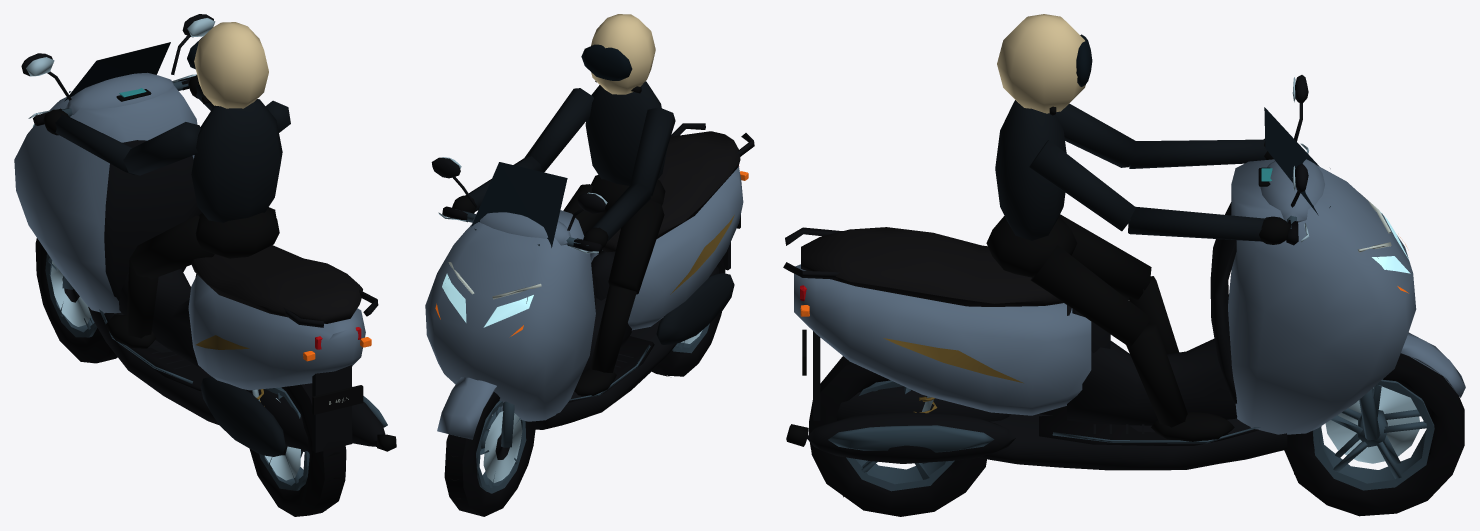
Rendered from Body_LOD1.fbx.
3 views of the same model, side by side, from view 1: azimuth 30°, elevation 25°; view 2: azimuth 150°, elevation 25°; view 3: azimuth 270°, elevation 25° (orthographic). The views are drawn at different scales.
Visible parts, largest first — view 1: Body_Mesh, Helmeted_Traffic_Rider, Wheel_Rear_Mesh, Steering_Pivot_Mesh, Wheel_Front_Mesh; view 2: Body_Mesh, Helmeted_Traffic_Rider, Wheel_Front_Mesh, Steering_Pivot_Mesh, Wheel_Rear_Mesh, Headlights_Mesh; view 3: Body_Mesh, Helmeted_Traffic_Rider, Wheel_Front_Mesh, Wheel_Rear_Mesh, Steering_Pivot_Mesh, Headlights_Mesh.
Boxes of the visible parts, x1,y1,x2,y2 form: Body_Mesh: (14,42,396,456); Helmeted_Traffic_Rider: (43,22,290,348); Wheel_Rear_Mesh: (249,383,346,516); Steering_Pivot_Mesh: (21,14,215,289); Wheel_Front_Mesh: (35,238,117,363); Body_Mesh: (425,123,754,429); Helmeted_Traffic_Rider: (452,14,675,396); Wheel_Front_Mesh: (444,392,535,516); Steering_Pivot_Mesh: (431,157,607,447); Wheel_Rear_Mesh: (652,258,725,376); Headlights_Mesh: (442,262,541,327); Body_Mesh: (783,107,1416,470); Helmeted_Traffic_Rider: (986,14,1290,441); Wheel_Front_Mesh: (1284,353,1464,516); Wheel_Rear_Mesh: (809,356,986,516); Steering_Pivot_Mesh: (1258,75,1465,440); Headlights_Mesh: (1358,193,1410,273).
Size of the model in its own units: 71.79 by 156 by 195.
